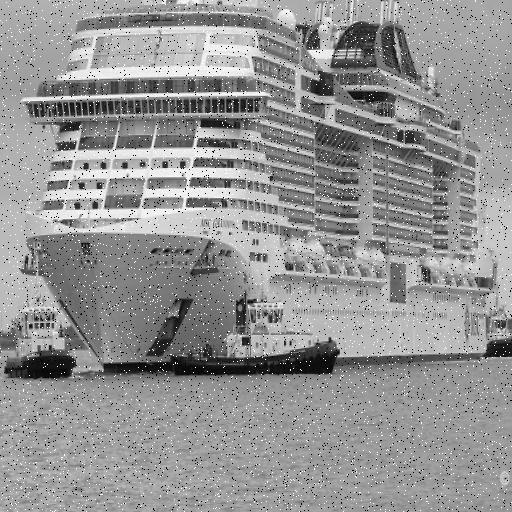cruises: (20, 1, 504, 379)
